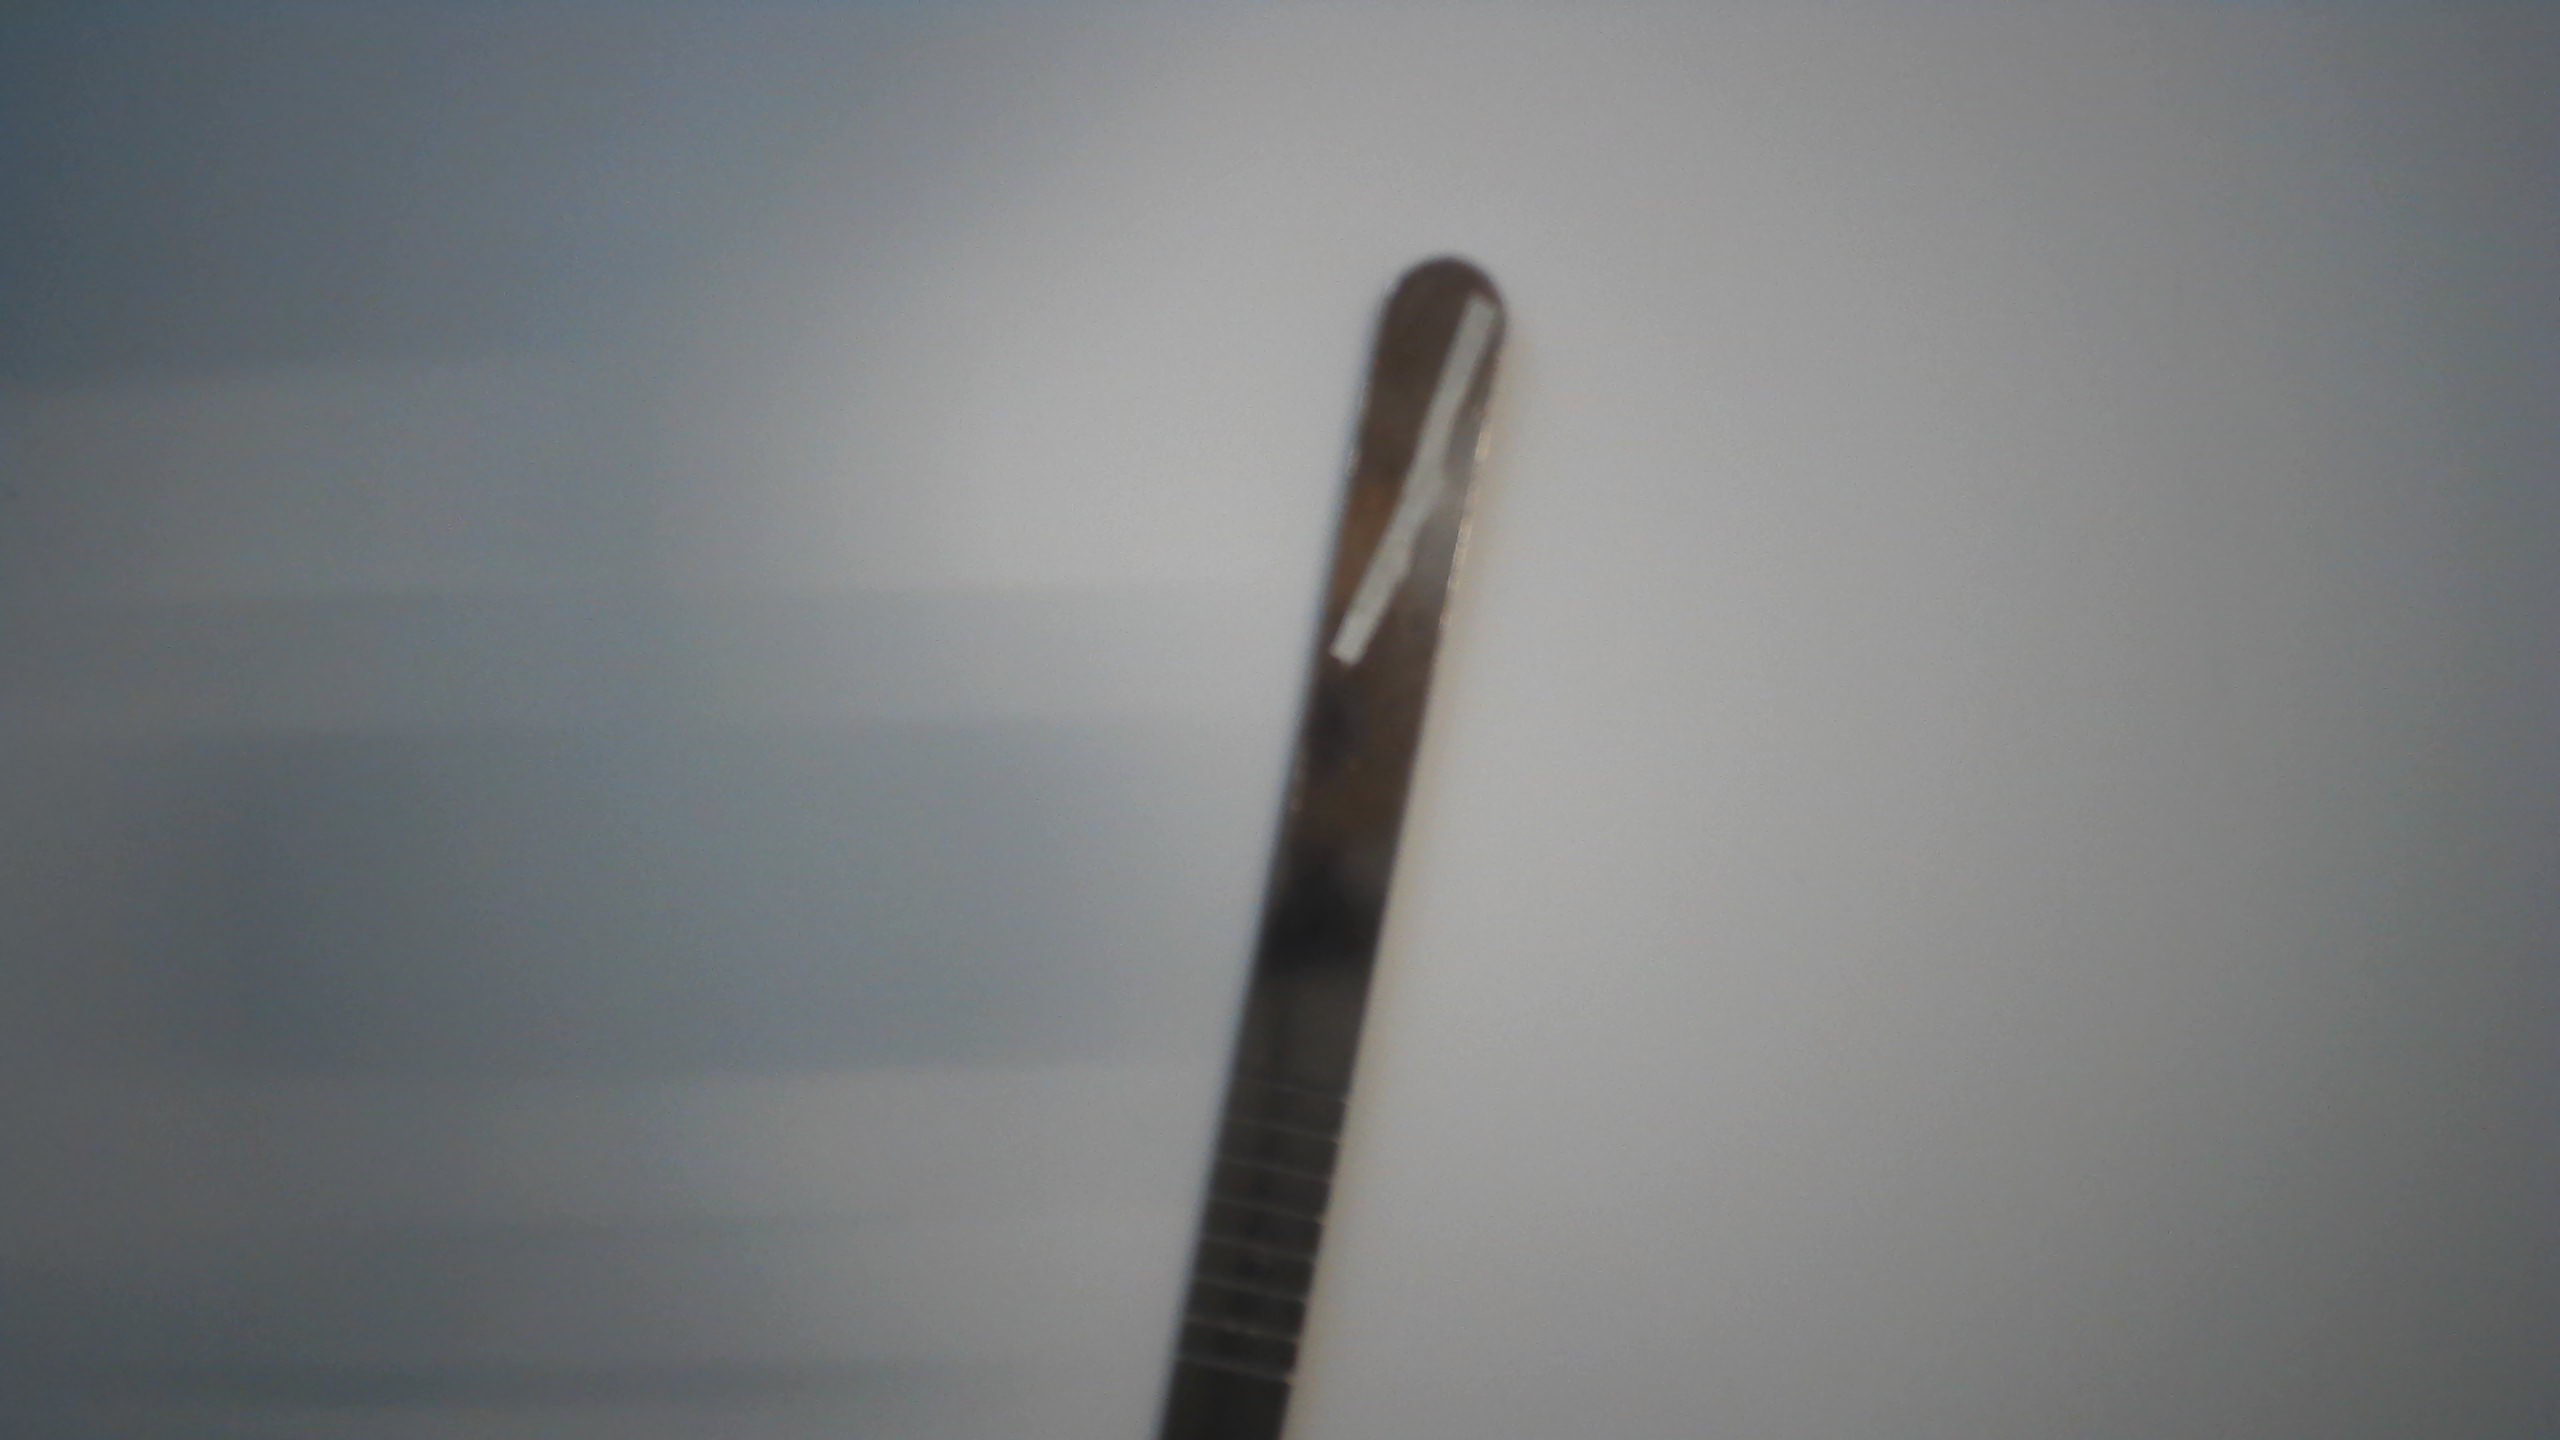Scratches: (1326, 280, 1507, 672)
